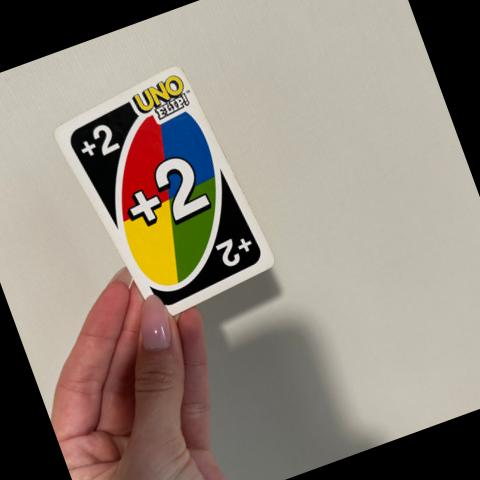lcolor2-50: (66, 112, 128, 174)
